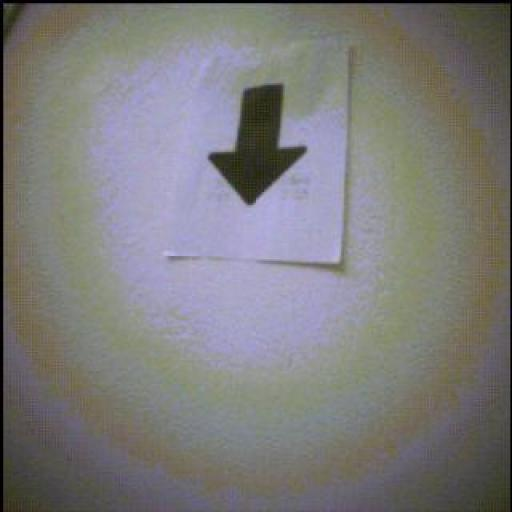arrow: (209, 86, 308, 206)
